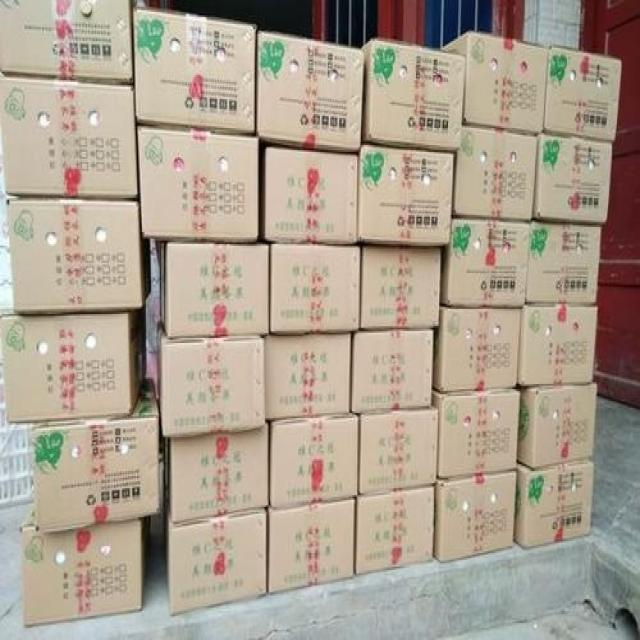box: (31, 391, 160, 531), (0, 302, 146, 423), (1, 77, 138, 198), (6, 200, 150, 312), (22, 507, 151, 626), (134, 9, 255, 133), (138, 126, 259, 242), (259, 31, 364, 154), (156, 323, 264, 437), (361, 39, 463, 152), (164, 507, 266, 616), (1, 2, 132, 84), (442, 32, 548, 133), (164, 423, 269, 522), (157, 244, 269, 336), (357, 145, 453, 247), (265, 147, 358, 246), (270, 413, 358, 509), (269, 500, 355, 594), (454, 125, 539, 220), (270, 246, 361, 333), (433, 387, 521, 476), (440, 220, 530, 307), (434, 305, 520, 393), (434, 471, 516, 563), (265, 335, 352, 420), (544, 46, 622, 140), (515, 459, 594, 548), (534, 135, 612, 224), (355, 486, 434, 573), (358, 406, 436, 493), (353, 329, 433, 413), (360, 247, 442, 328), (518, 305, 598, 386), (518, 384, 595, 468), (526, 222, 600, 304)
